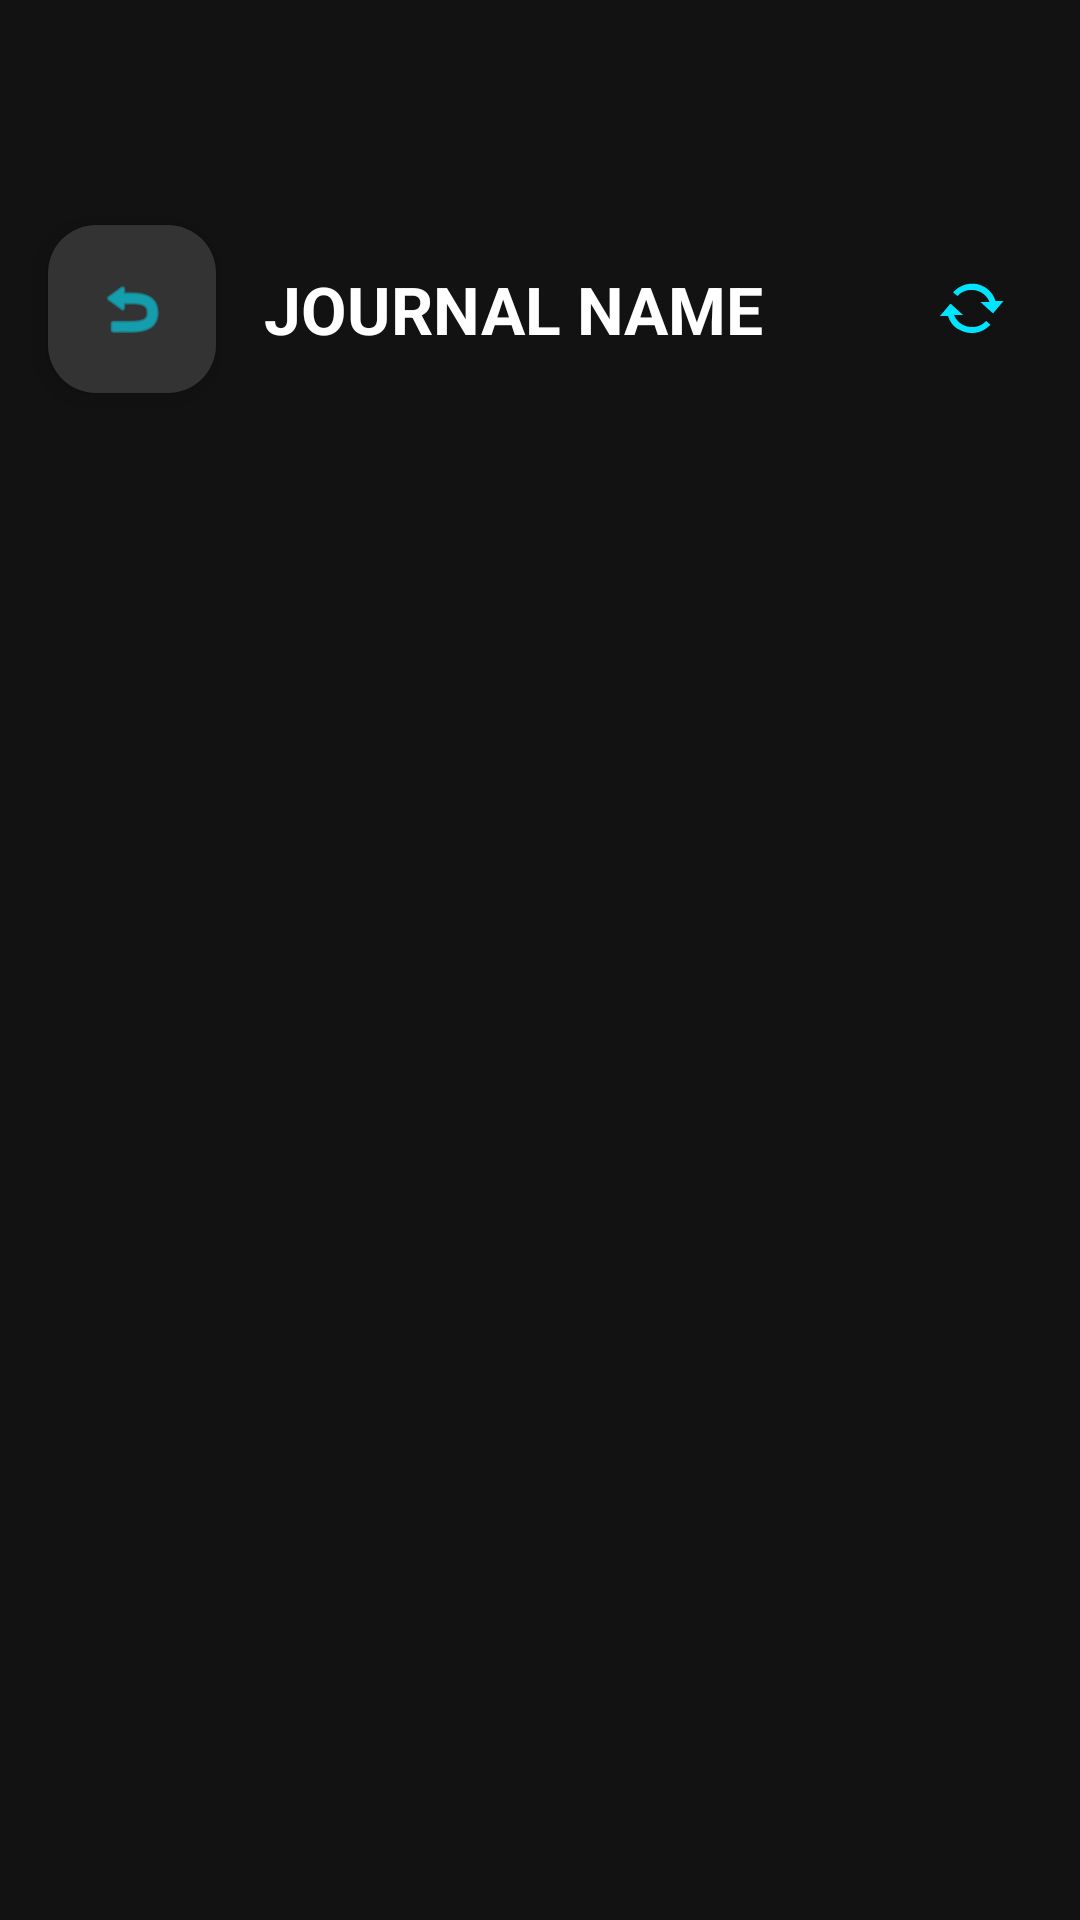

Screen size 1080 x 1920. Icon name, then its box in pixels as (x1, y1, x2, y2):
revert: (48, 225, 216, 393)
sync: (940, 283, 1004, 333)
